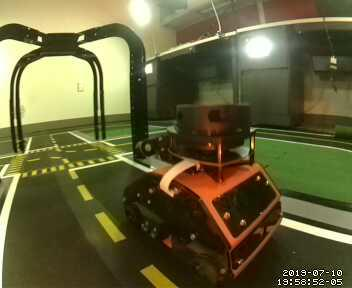pheeno: (121, 102, 287, 283)
